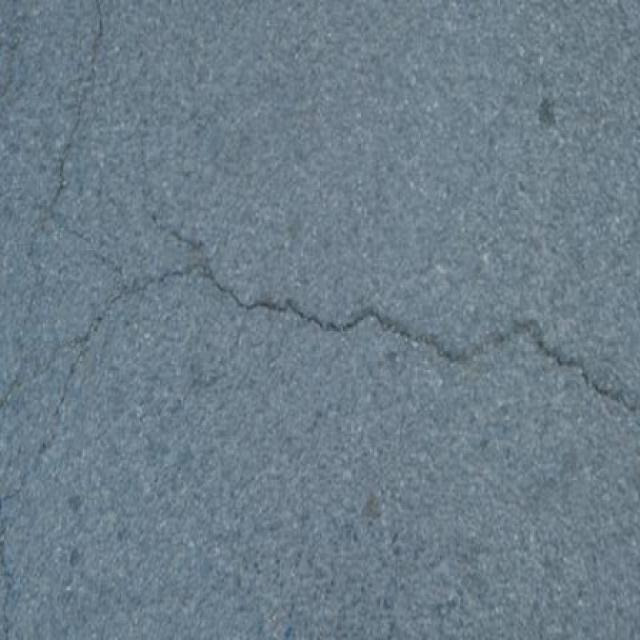Crack: (242, 274, 583, 391), (120, 249, 228, 292)
